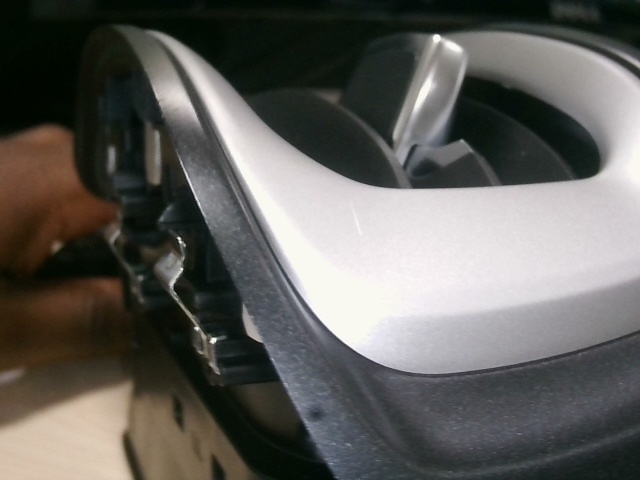NG: (154, 94, 201, 159), (340, 200, 378, 247)
